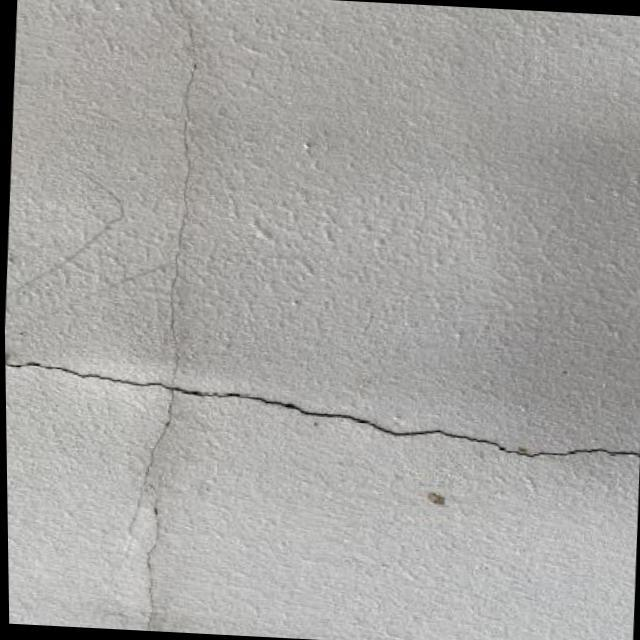Crack: (13, 336, 632, 484), (125, 6, 208, 626)
